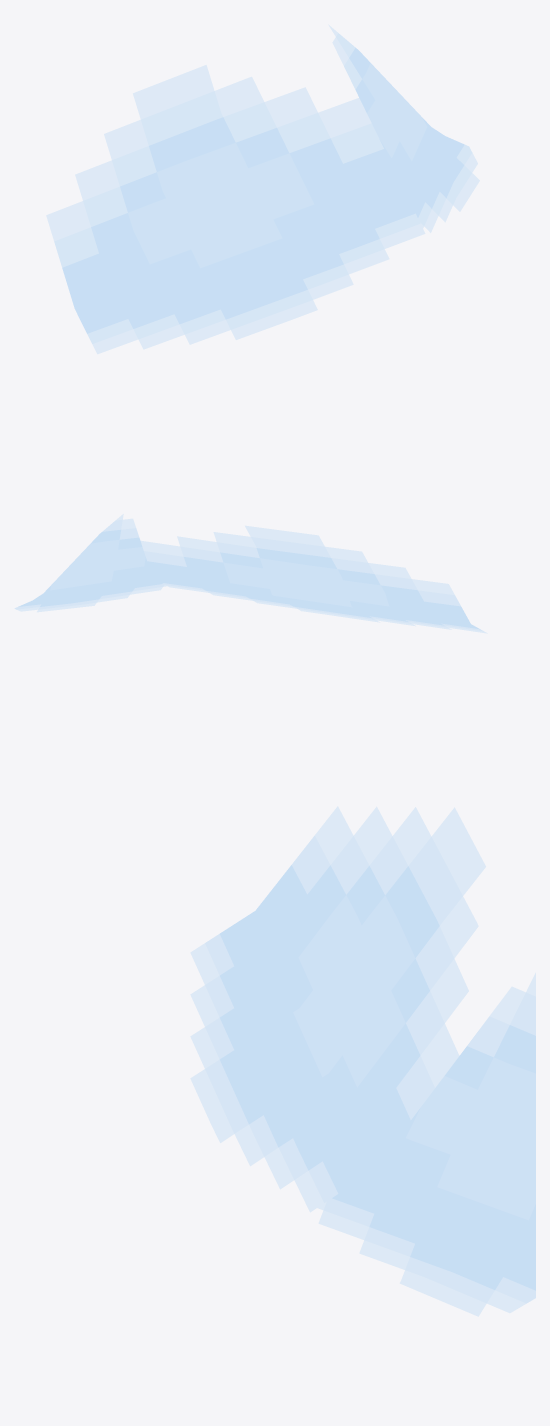
3 renders of one model, top to bottom at view 1: azimuth 30°, elevation 25°; view 2: azimuth 150°, elevation 25°; view 3: azimuth 270°, elevation 25°, orthographic. The views are drawn at different scales.
Size of the model in its own units: 1 by 0.5088 by 0.6377.
1 material, 1 textured.
